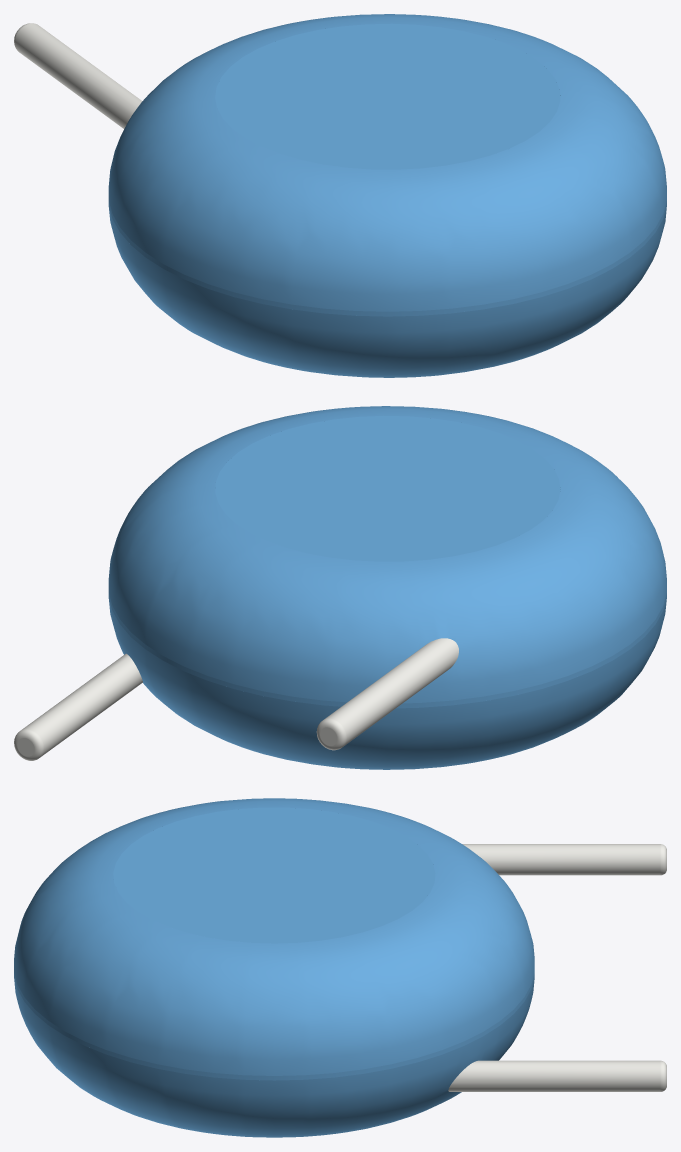
File: RV_Disc_D12mm_W4.7mm_P7.5mm.glb
3 renders of one model, top to bottom at view 1: azimuth 30°, elevation 25°; view 2: azimuth 150°, elevation 25°; view 3: azimuth 270°, elevation 25°, orthographic. The views are drawn at different scales.
Parts seen in each view (by area): view 1: Shape_IndexedFaceSet.001, Shape_IndexedFaceSet.003, Shape_IndexedFaceSet.002, Shape_IndexedFaceSet.004, Shape_IndexedFaceSet; view 2: Shape_IndexedFaceSet.001, Shape_IndexedFaceSet.003, Shape_IndexedFaceSet.002, Shape_IndexedFaceSet.004, Shape_IndexedFaceSet.006, Shape_IndexedFaceSet; view 3: Shape_IndexedFaceSet.001, Shape_IndexedFaceSet.003, Shape_IndexedFaceSet.002, Shape_IndexedFaceSet.006, Shape_IndexedFaceSet.004, Shape_IndexedFaceSet.
Boxes of the visible parts, x1,y1,x2,y2 form: Shape_IndexedFaceSet.001: [108, 14, 666, 311]; Shape_IndexedFaceSet.003: [215, 23, 560, 169]; Shape_IndexedFaceSet.002: [108, 206, 666, 377]; Shape_IndexedFaceSet.004: [15, 23, 142, 128]; Shape_IndexedFaceSet: [108, 201, 666, 316]; Shape_IndexedFaceSet.001: [108, 406, 666, 703]; Shape_IndexedFaceSet.003: [215, 415, 560, 561]; Shape_IndexedFaceSet.002: [108, 598, 666, 769]; Shape_IndexedFaceSet.004: [324, 638, 458, 746]; Shape_IndexedFaceSet.006: [20, 653, 142, 756]; Shape_IndexedFaceSet: [108, 593, 666, 708]; Shape_IndexedFaceSet.001: [14, 798, 534, 1075]; Shape_IndexedFaceSet.003: [113, 807, 435, 943]; Shape_IndexedFaceSet.002: [14, 977, 534, 1137]; Shape_IndexedFaceSet.006: [448, 1060, 660, 1091]; Shape_IndexedFaceSet.004: [462, 844, 660, 875]; Shape_IndexedFaceSet: [14, 973, 534, 1080].
Size of the model in its own units: 4.72 by 1.85 by 5.91.
